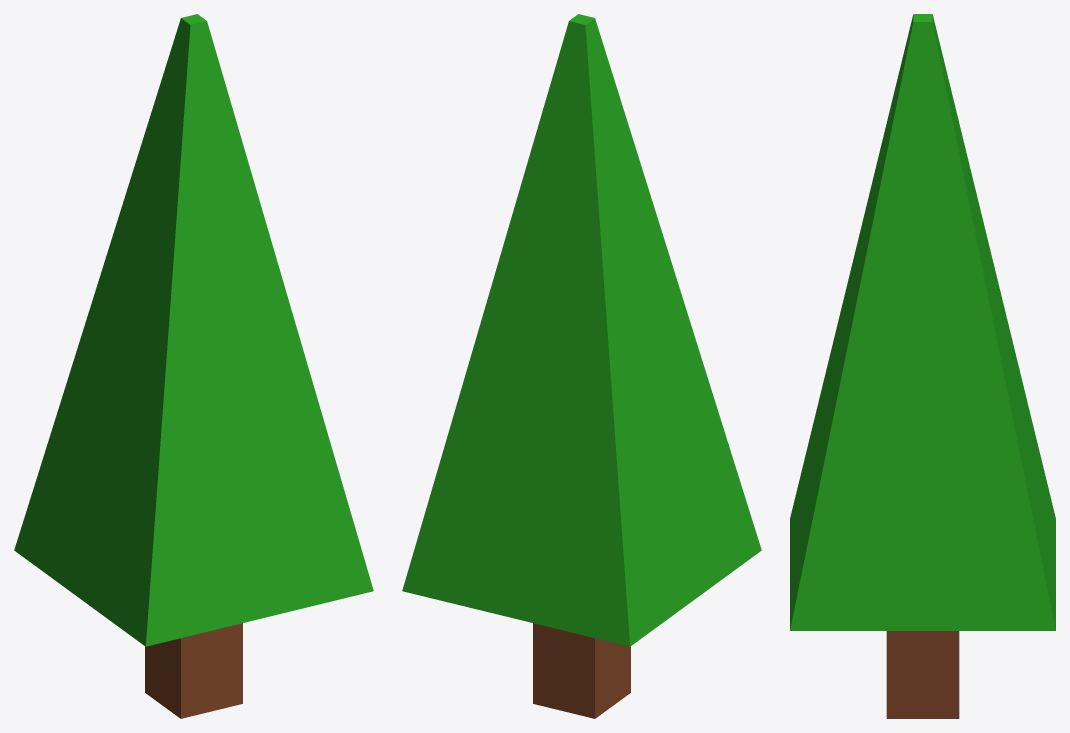
File: Tree2.fbx
3 views of the same model, side by side, from view 1: azimuth 30°, elevation 25°; view 2: azimuth 150°, elevation 25°; view 3: azimuth 270°, elevation 25° (orthographic).
Visible parts, largest first — view 1: Tree02; view 2: Tree02; view 3: Tree02.
Boxes of the visible parts, <box> form: Tree02: <box>14,14,373,718</box>; Tree02: <box>402,14,761,718</box>; Tree02: <box>790,14,1055,718</box>.
Bounding box in the file's own units: 733 × 2085 × 733.
